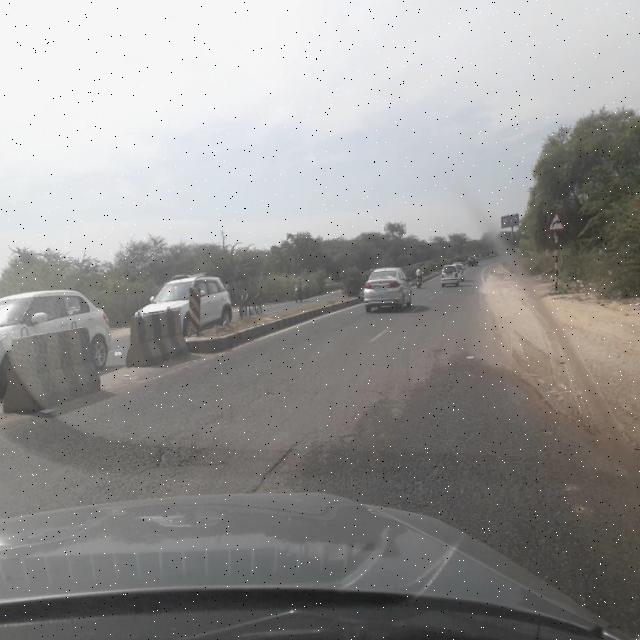D00: (245, 437, 308, 492)
D20: (127, 392, 243, 484)
